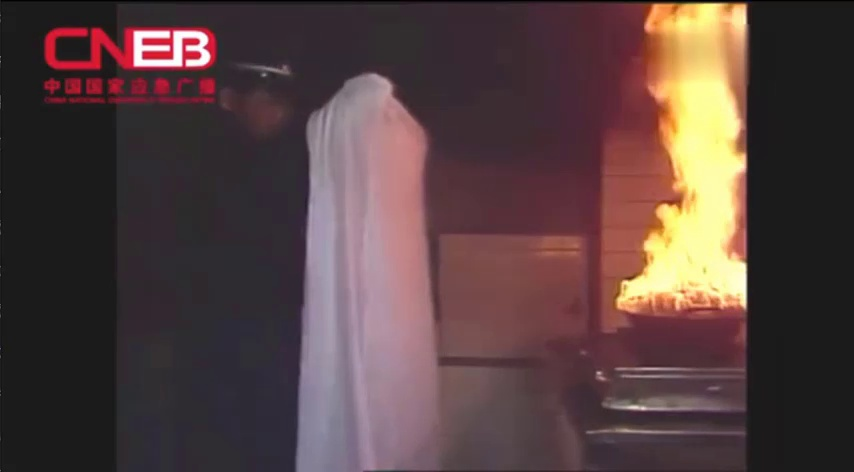fire: (607, 2, 745, 332)
